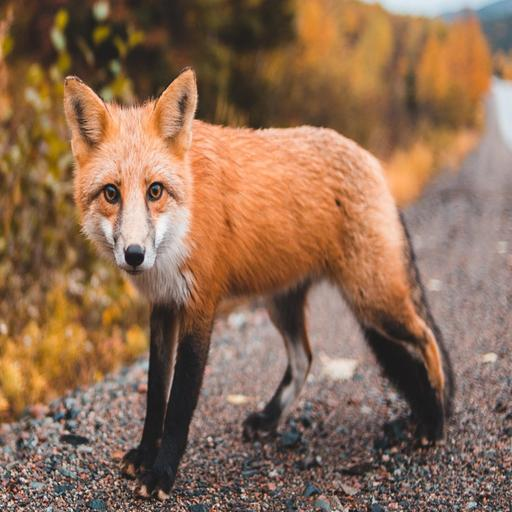Fox: (62, 67, 464, 502)
